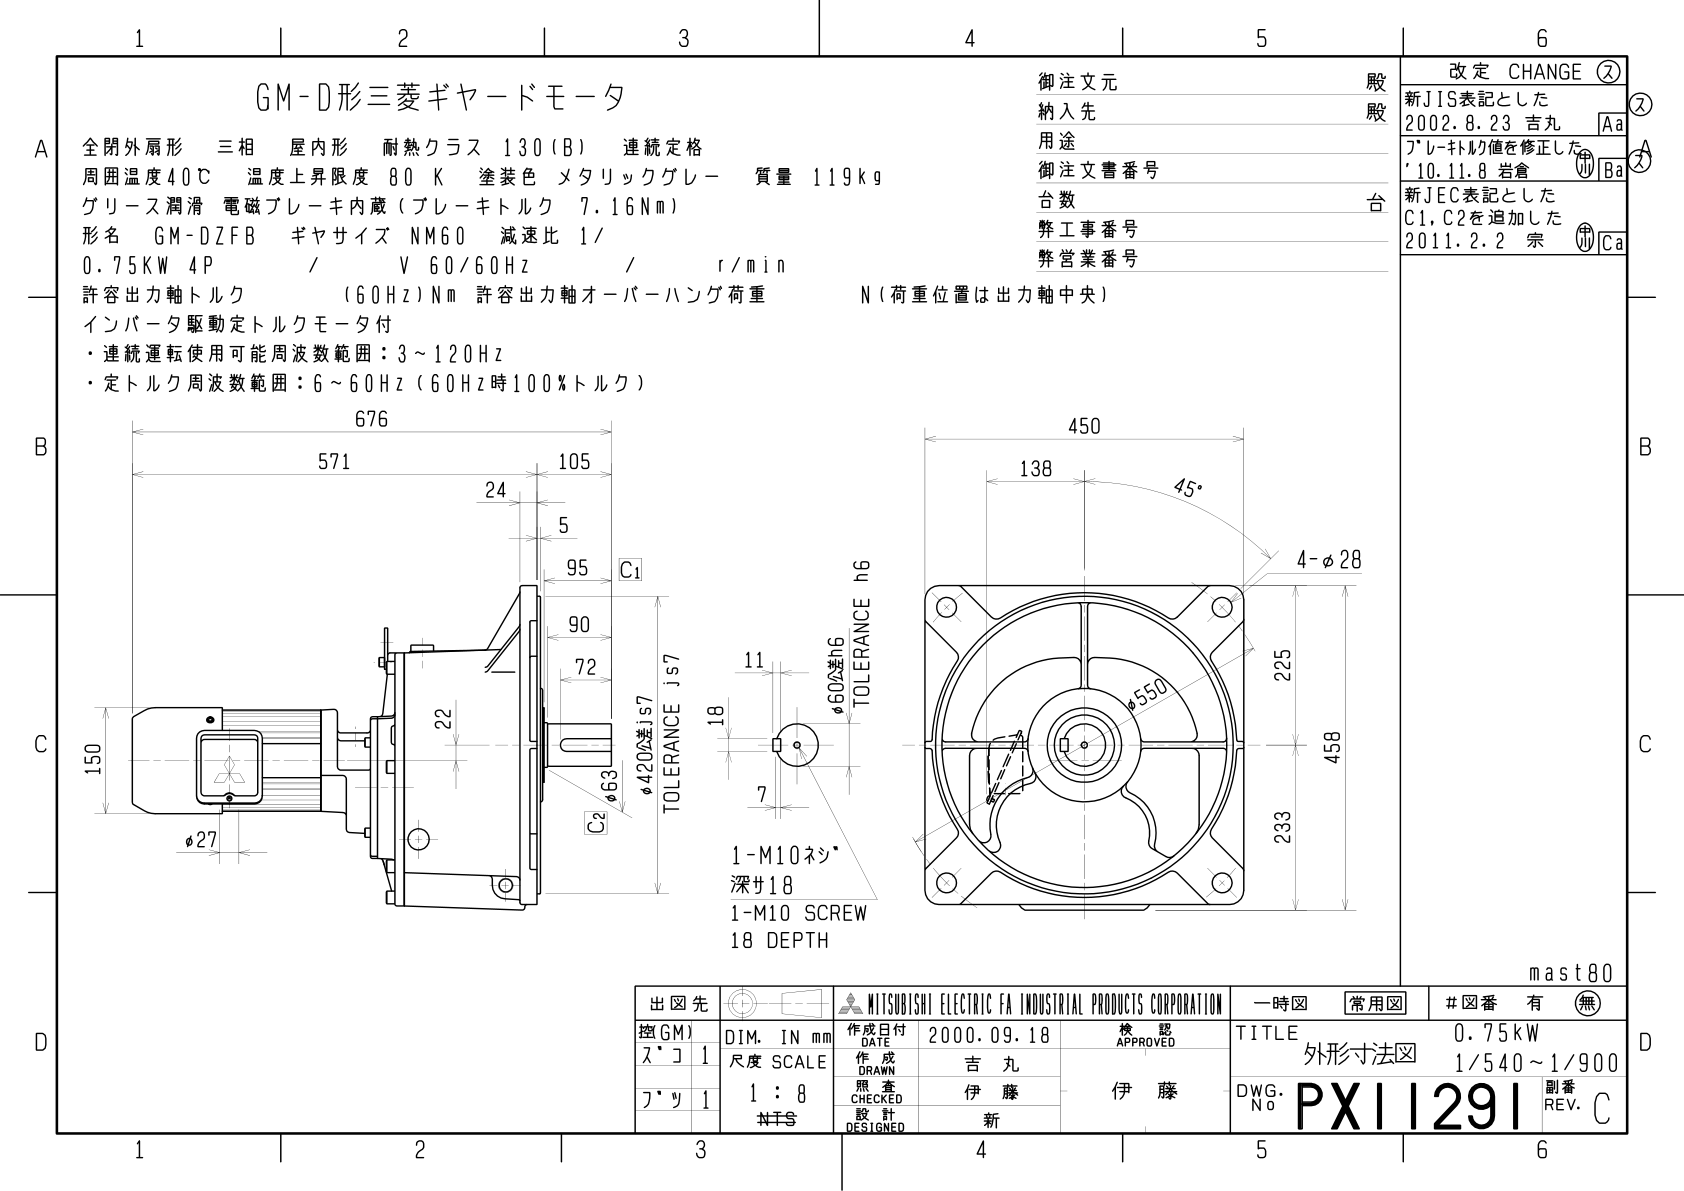GM_D_インバータ屋内_三相_フランジ: (8, 1, 1678, 1188)
